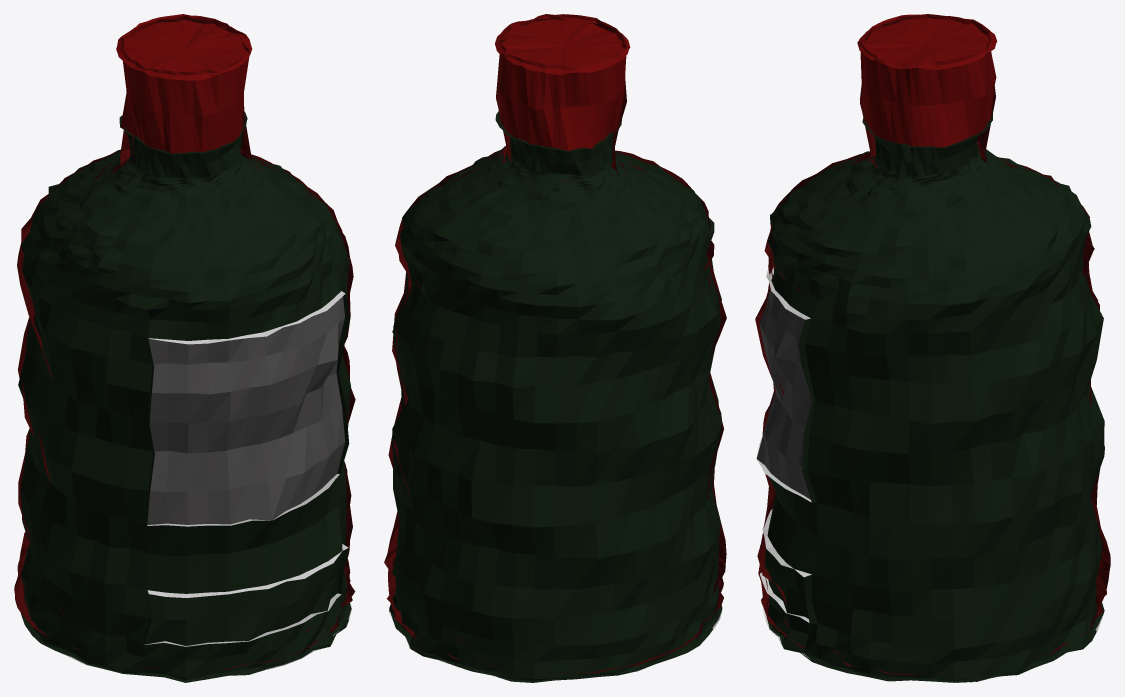
File: crush_high_0.obj
3 views of the same model, side by side, from view 1: azimuth 30°, elevation 25°; view 2: azimuth 150°, elevation 25°; view 3: azimuth 270°, elevation 25° (orthographic).
Visible parts, largest first — view 1: model; view 2: model; view 3: model.
Boxes of the visible parts, left/top/right/bottom form: model: left=14, top=14, right=355, bottom=682; model: left=384, top=14, right=726, bottom=682; model: left=755, top=14, right=1110, bottom=682.
Bounding box in the file's own units: 0.0657 × 0.1216 × 0.0679.
Materials: 1 (1 with a texture image).
